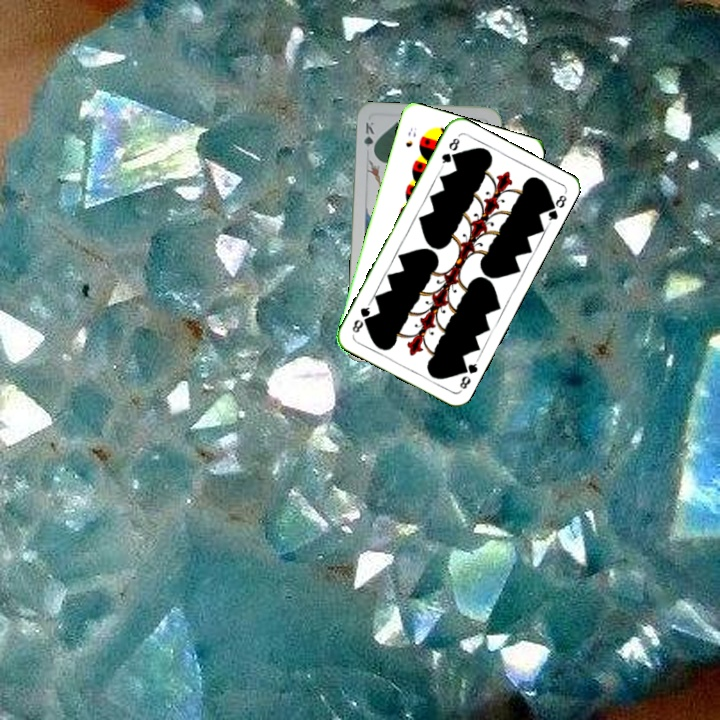G8: (456, 355, 481, 393), (437, 134, 462, 170)
GK: (360, 118, 377, 157)
S8: (402, 123, 419, 150)
